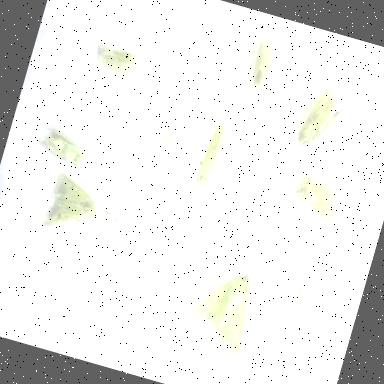abw: (178, 255, 267, 368), (290, 67, 364, 168), (34, 165, 122, 248), (284, 166, 360, 237), (186, 106, 240, 197), (240, 22, 290, 101), (85, 34, 150, 94), (28, 118, 95, 175)
